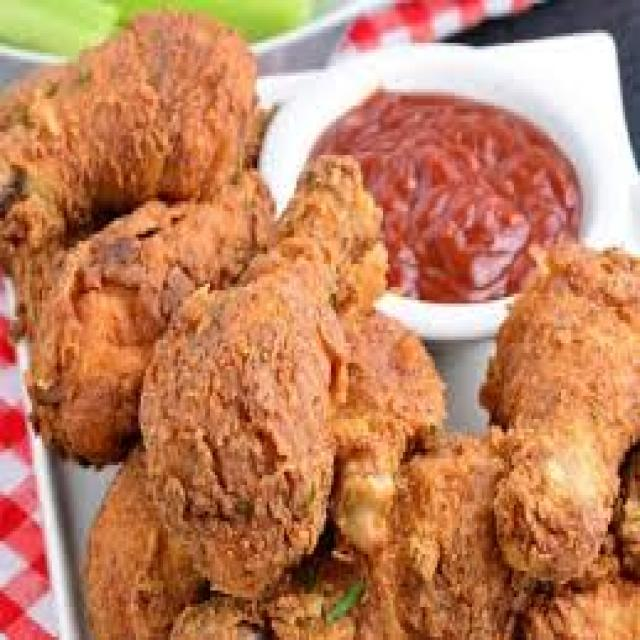Frango: (7, 0, 640, 640)
